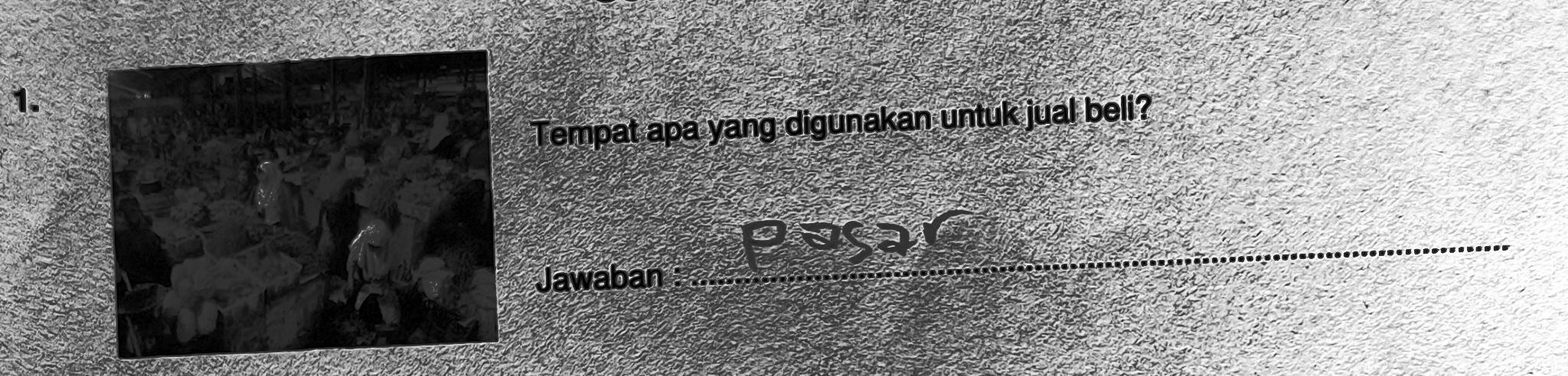jawaban: (738, 200, 976, 275)
